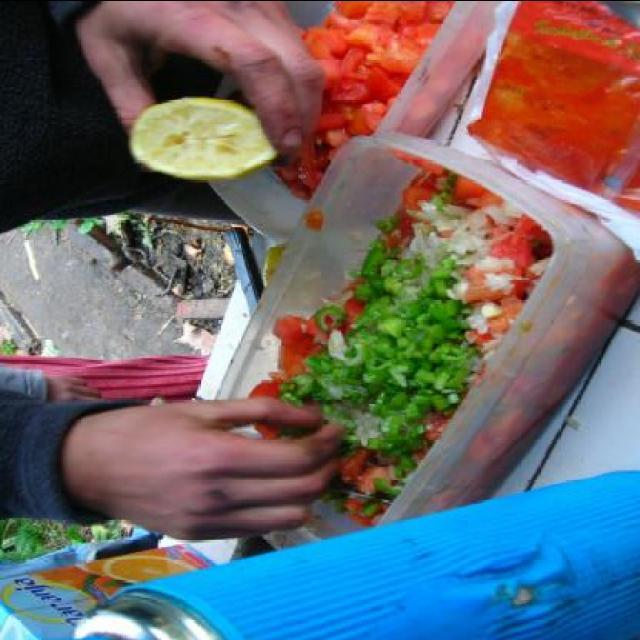Lemon: (138, 80, 276, 176)
